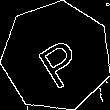P_NW: (27, 25, 86, 88)
